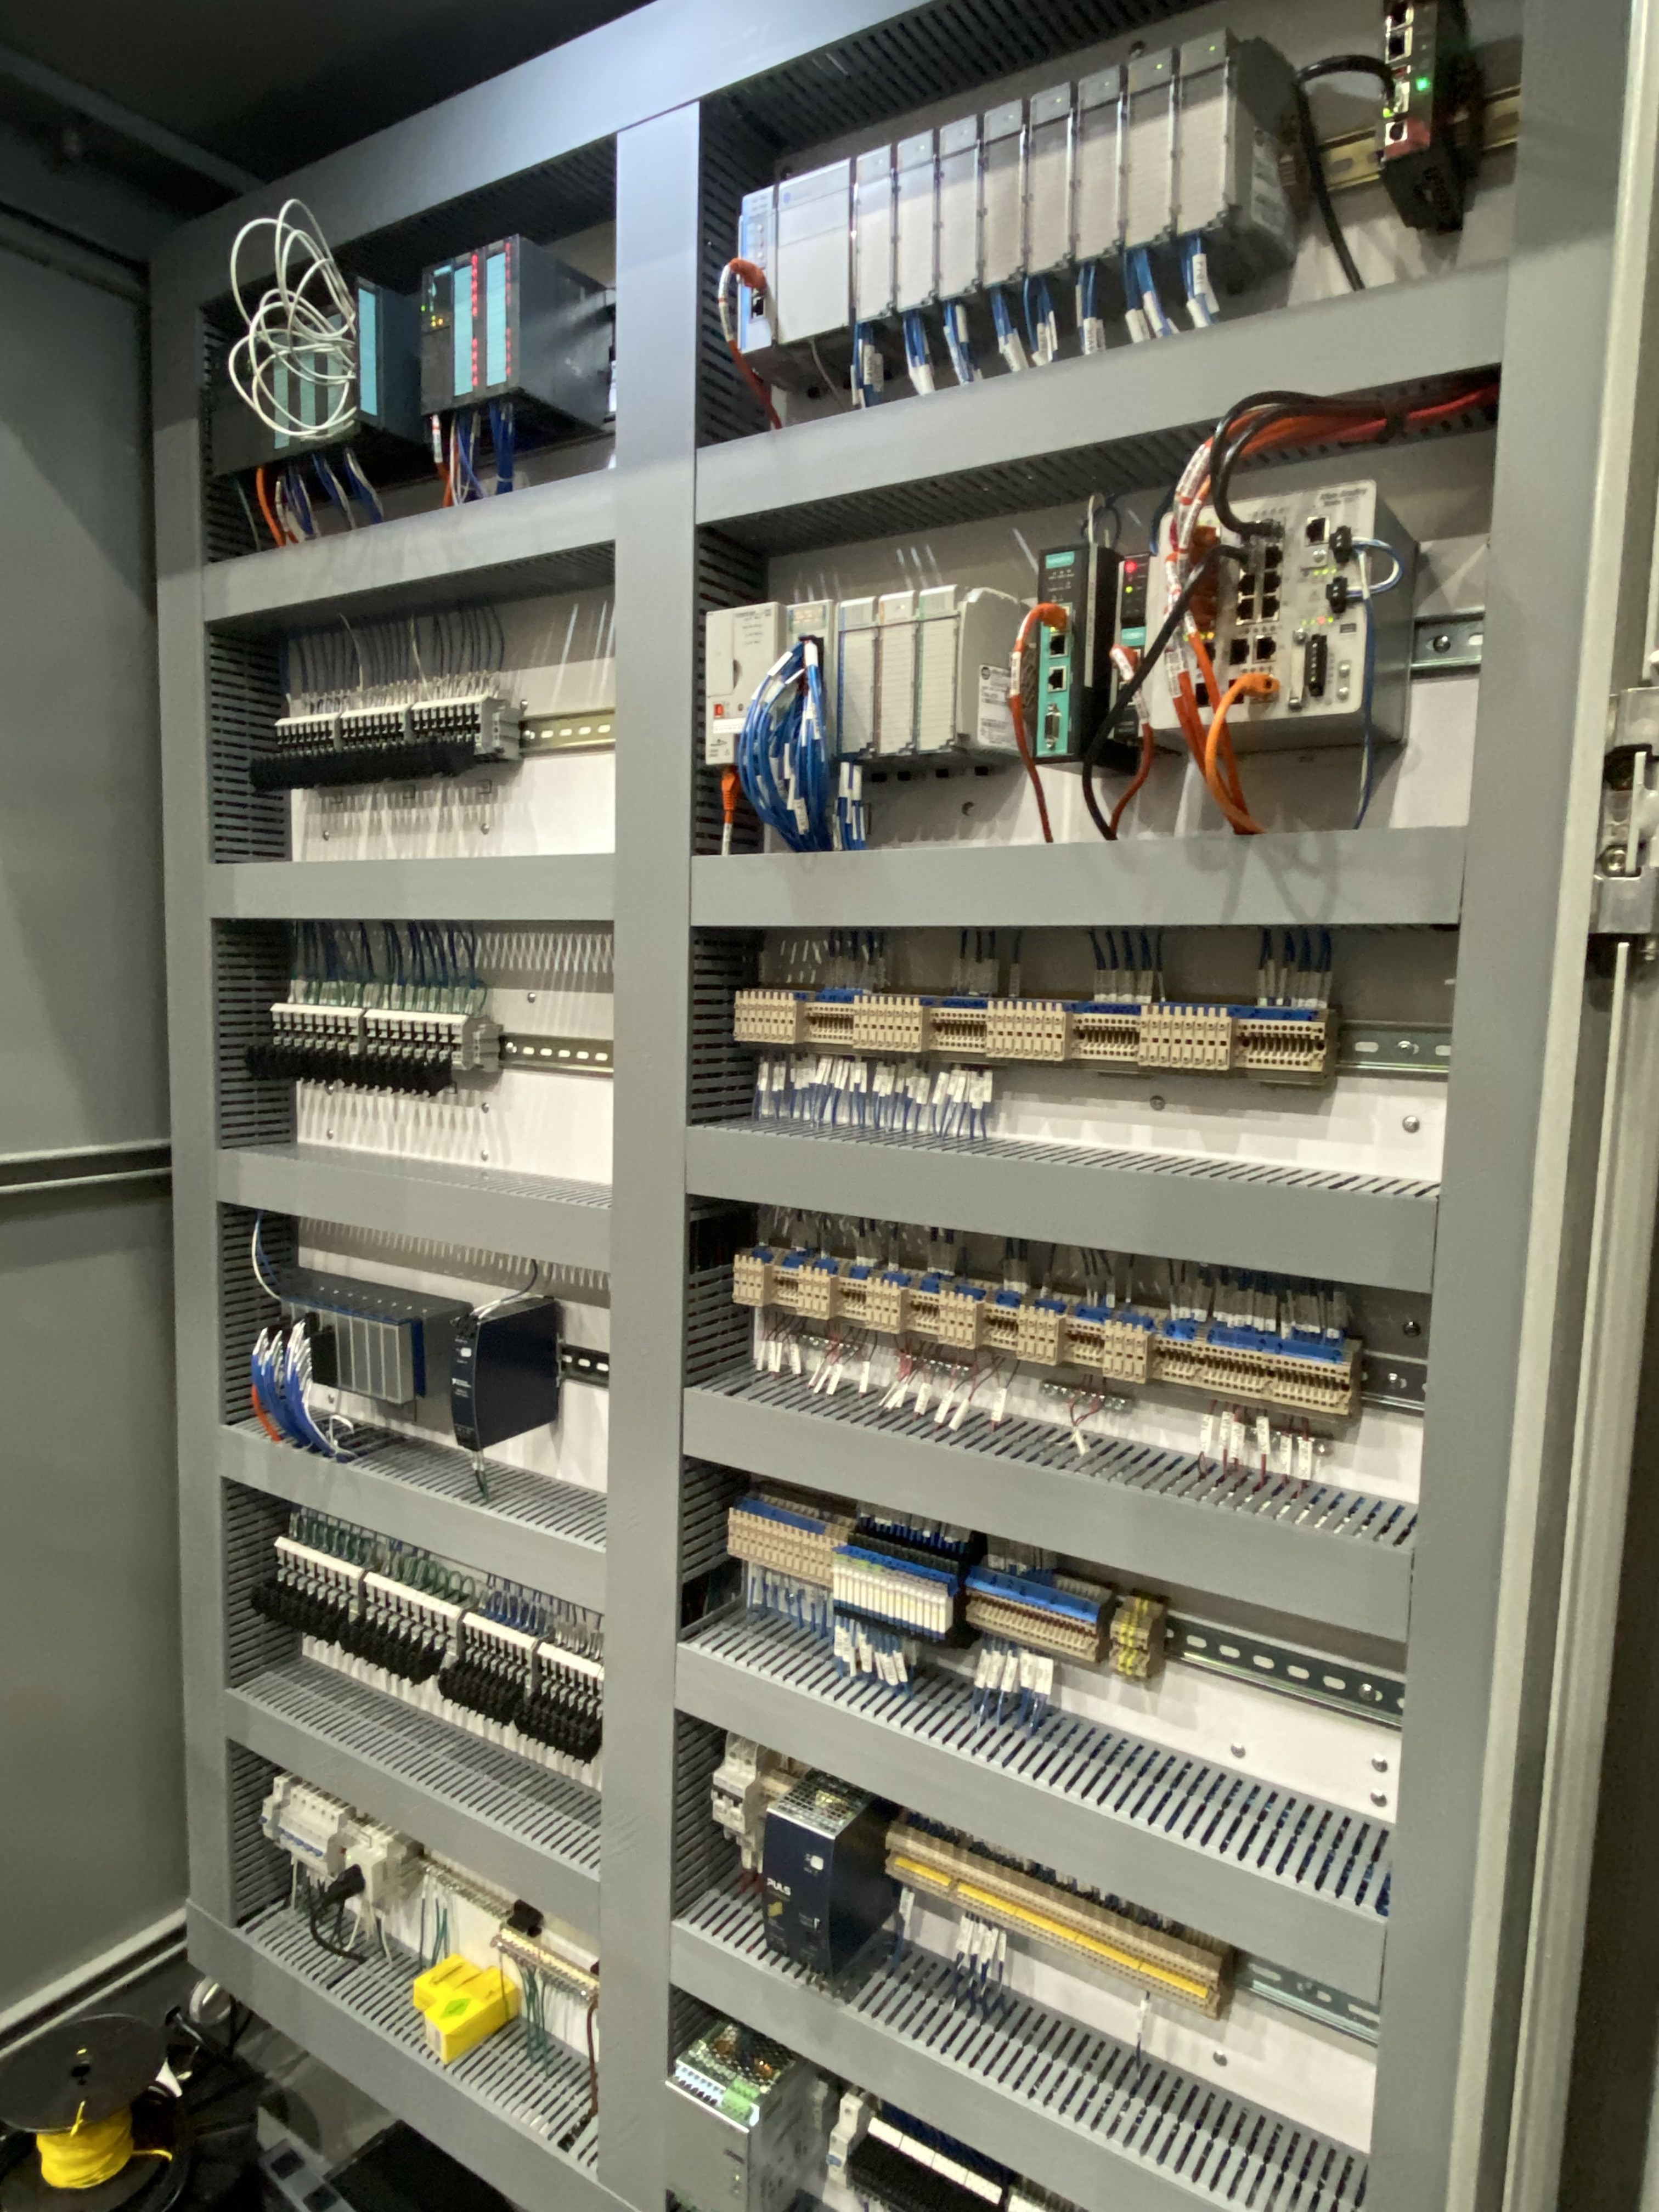AllenBradley: (702, 596, 784, 766)
Siemens: (239, 322, 281, 474)
